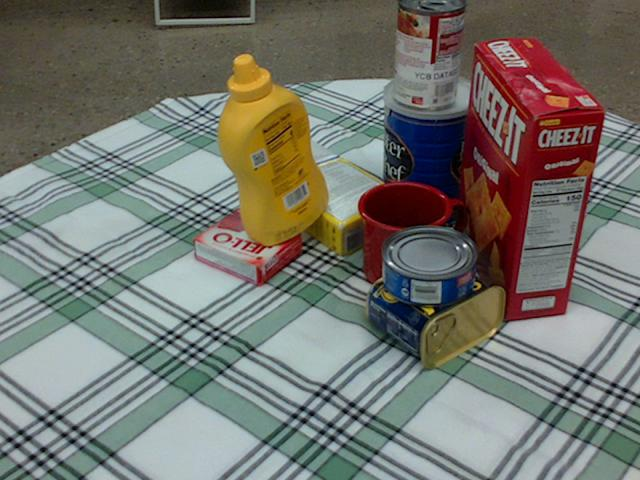cracker_box: (454, 38, 607, 318)
gelatin_box: (193, 210, 303, 287)
master_chef_can: (379, 72, 481, 228)
mug: (358, 181, 466, 293)
mustard_bottle: (217, 54, 327, 245)
potted_meat_can: (369, 247, 509, 365)
sugar_box: (243, 136, 404, 255)
tomato_soup_can: (394, 0, 466, 109)
tuna_fish_can: (381, 226, 477, 306)
